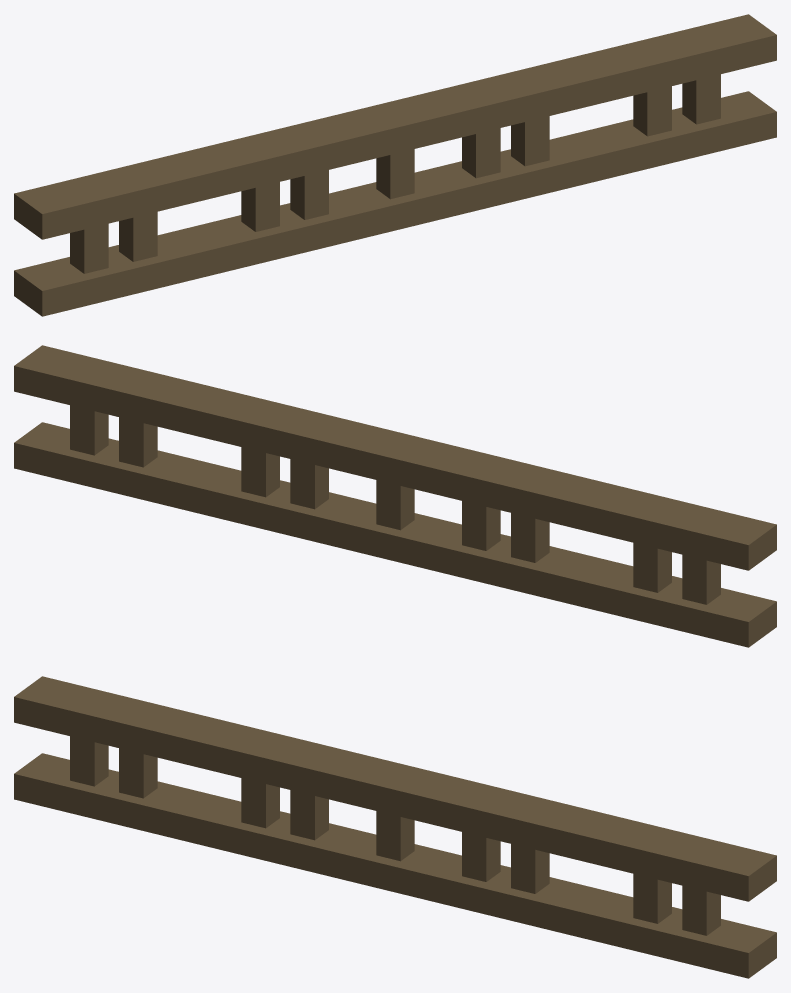
File: greek_wall_divider_4.fbx
3 views of the same model, one above another, from view 1: azimuth 30°, elevation 25°; view 2: azimuth 150°, elevation 25°; view 3: azimuth 330°, elevation 25° (orthographic).
Parts seen in each view (by area): view 1: Cube.060; view 2: Cube.060; view 3: Cube.060.
Boxes of the visible parts, x1=… form: Cube.060: x1=14, y1=14, x2=776, y2=316; Cube.060: x1=14, y1=345, x2=776, y2=647; Cube.060: x1=14, y1=676, x2=776, y2=978.
Size of the model in its own units: 300 by 40 by 20.
